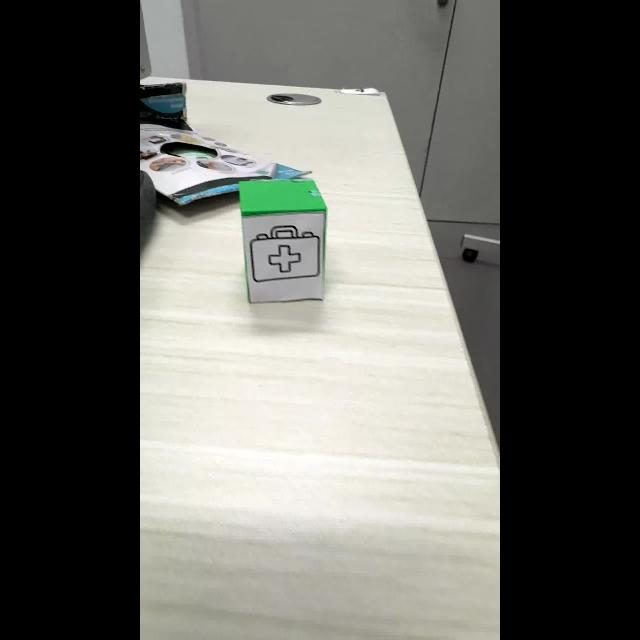Medkit: (250, 225, 321, 282)
